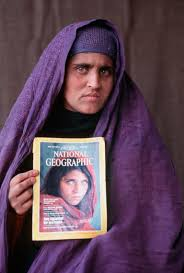middle_eastern_Female: (65, 49, 119, 116)
